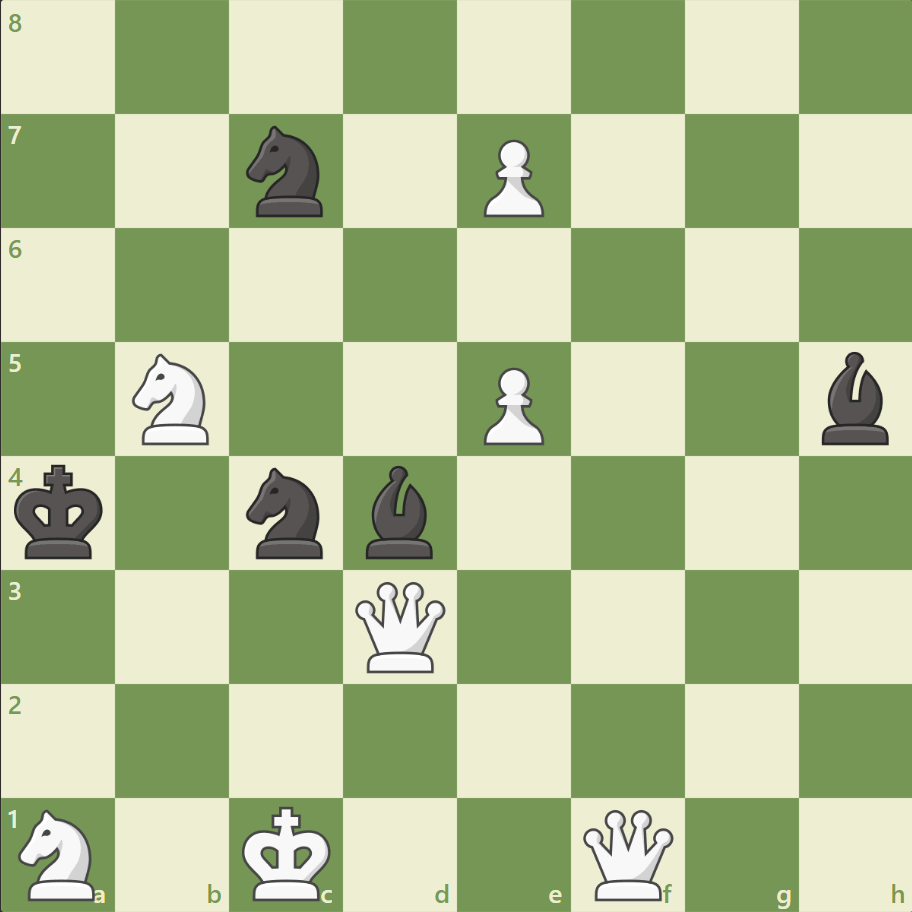K: (238, 798, 338, 906)
N: (124, 348, 222, 450), (11, 802, 108, 904)
P: (474, 132, 549, 223), (474, 359, 549, 450)
Q: (351, 576, 450, 676), (578, 804, 677, 903)
b: (358, 460, 442, 563), (812, 347, 896, 449)
k: (11, 458, 111, 566)
n: (238, 461, 335, 564), (238, 121, 335, 223)
